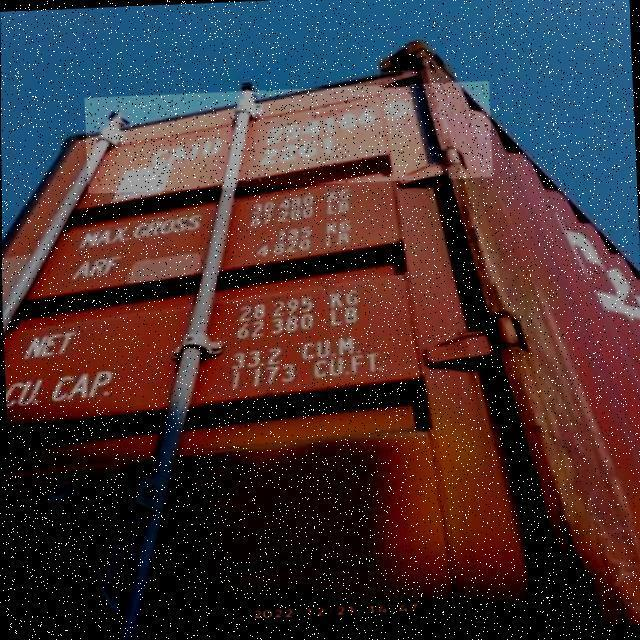container_number_h: (83, 81, 492, 194)
